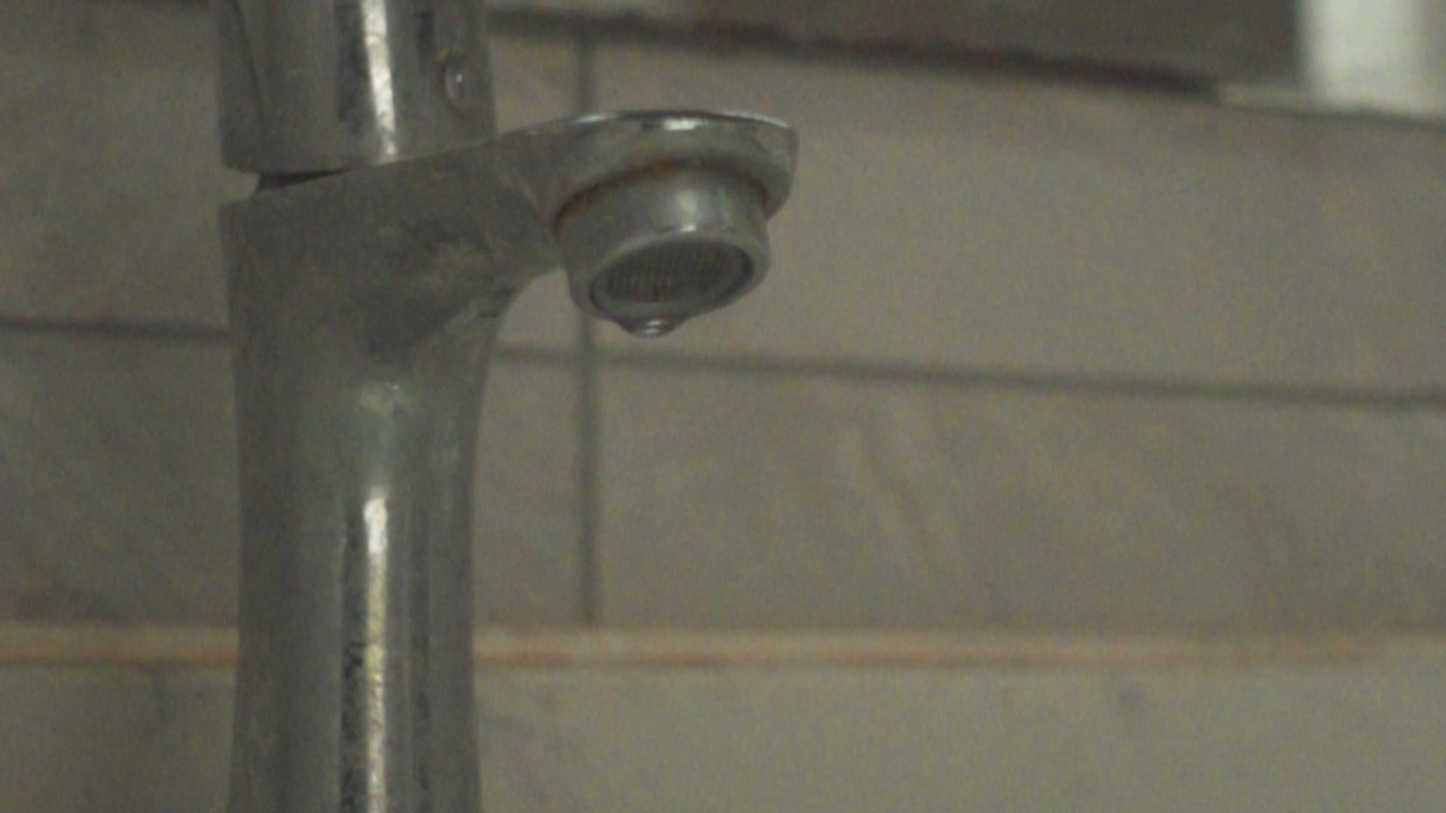water drop: (609, 313, 687, 338)
